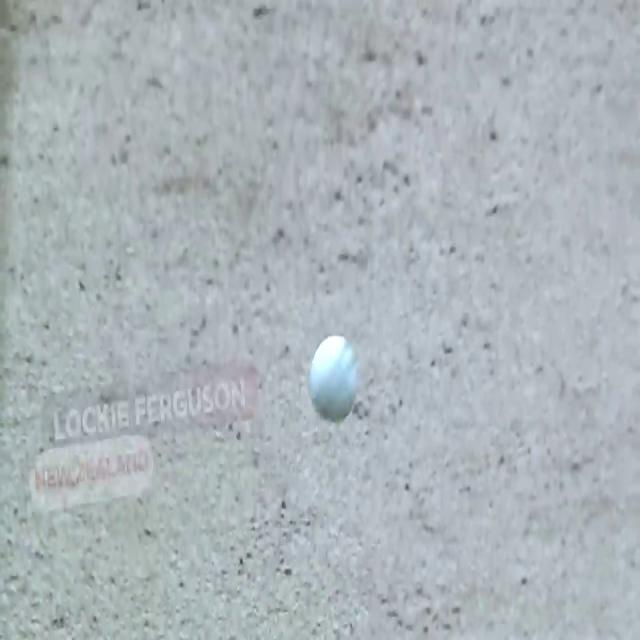ball: (306, 327, 362, 425)
